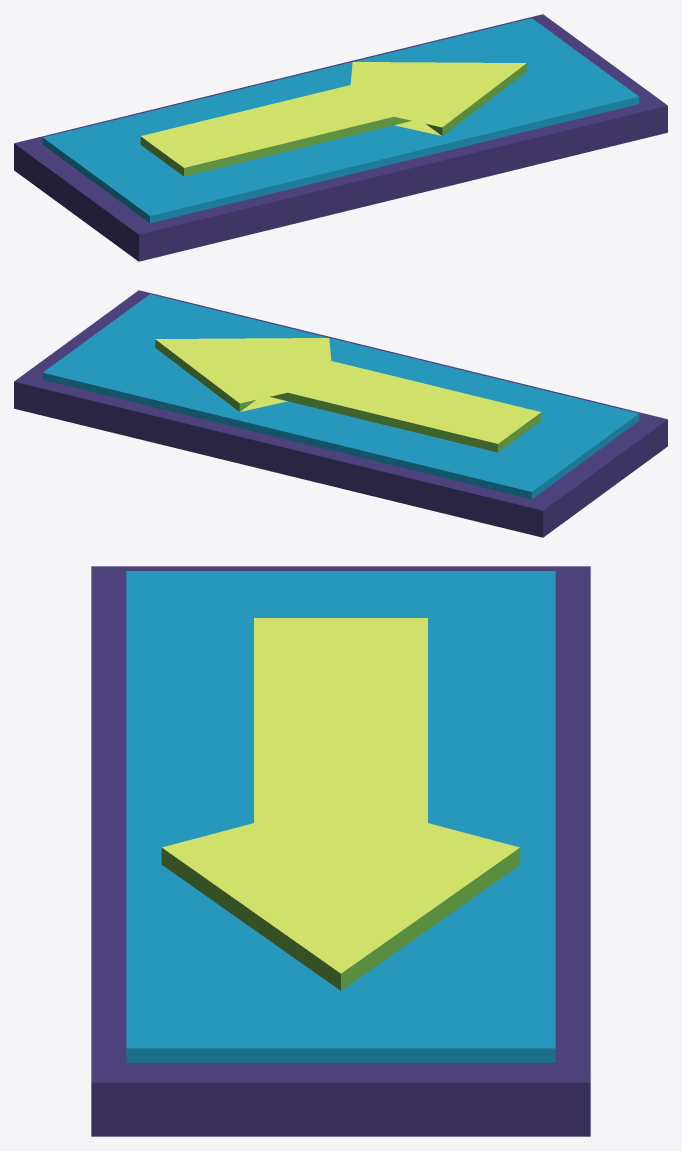
The model's file is star_dash_panel.obj.
3 views of the same model, one above another, from view 1: azimuth 30°, elevation 25°; view 2: azimuth 150°, elevation 25°; view 3: azimuth 270°, elevation 25° (orthographic). The views are drawn at different scales.
Parts seen in each view (by area): view 1: star_dash_panel; view 2: star_dash_panel; view 3: star_dash_panel.
Boxes of the visible parts, x1,y1,x2,y2 form: star_dash_panel: [14, 14, 667, 261]; star_dash_panel: [14, 290, 667, 537]; star_dash_panel: [91, 566, 590, 1136].
Size of the model in its own units: 4.5 by 0.35 by 1.84.
